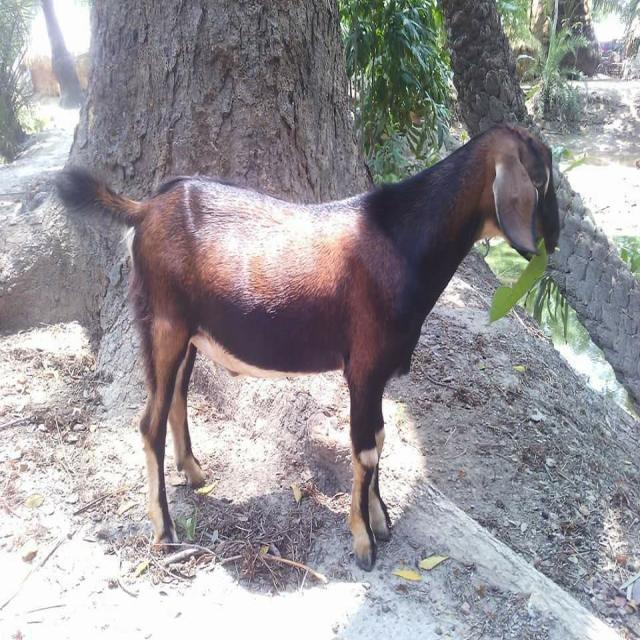Goat: (53, 120, 561, 572)
